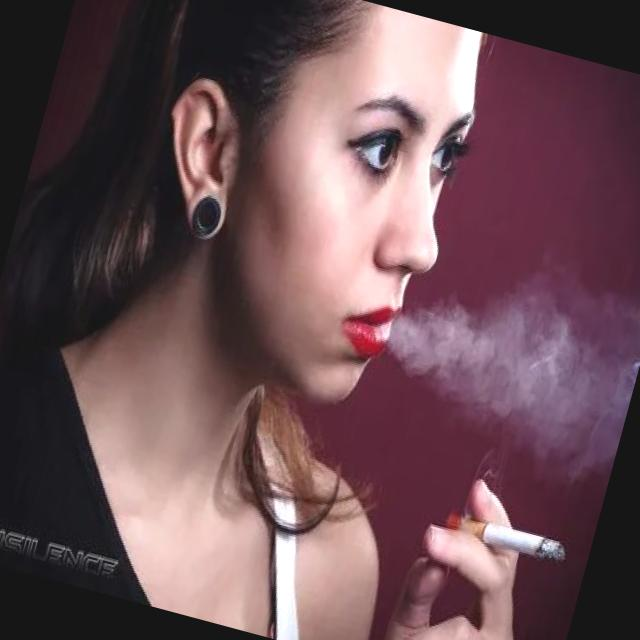smoke: (439, 502, 577, 574)
